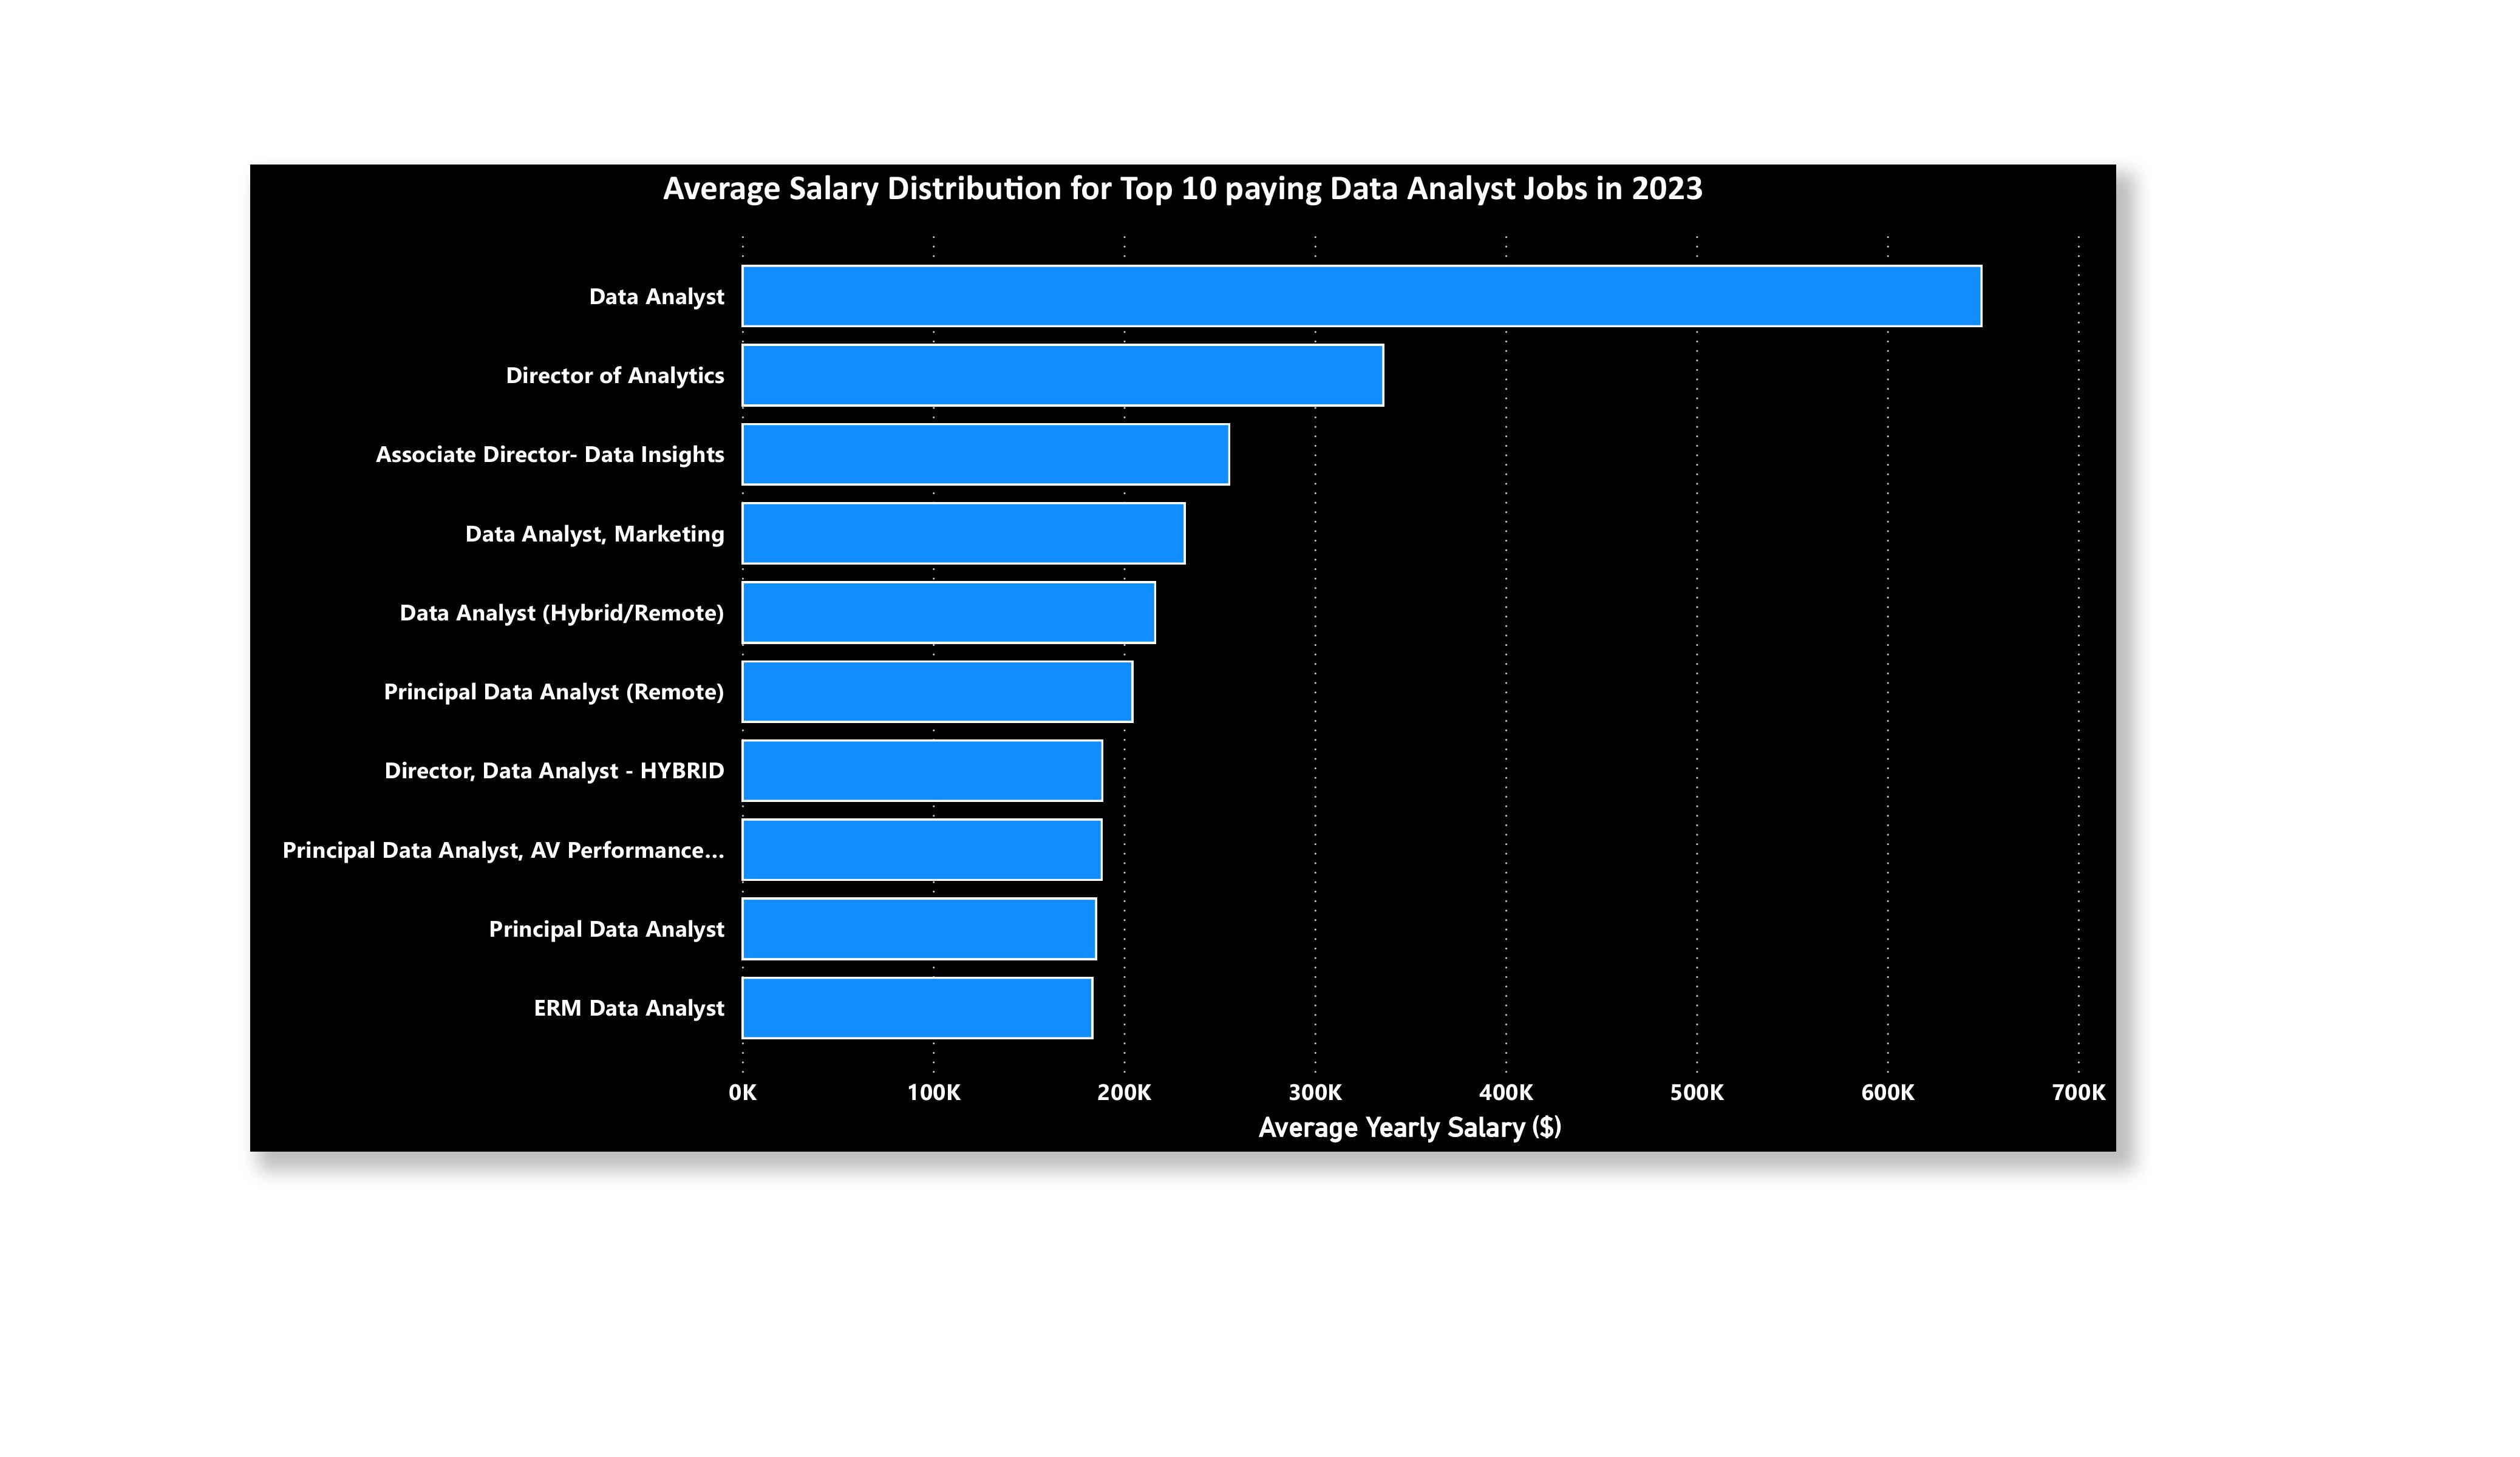

This screenshot's page, from the dashboard's own definition file:
{"tool":"powerbi","page":{"name":"Page 1","canvas":[1280,720],"ordinal":0},"visuals":[{"type":"clusteredBarChart","title":"Average Salary Distribution for Top 10 paying Data Analyst Jobs in 2023","fields":{"Category":["2_top_paying com.job_title"],"Y":["Sum(2_top_paying com.salary_year_avg)"]},"box":[108,63.2,983.3,519.4],"z":0}]}

Visuals, with their boxes in screenshot pixels (x1, y1, x2, y2):
"Average Salary Distribution for Top 10 paying Data Analyst Jobs in 2023" clusteredBarChart: bbox=[250, 165, 2116, 1151]
